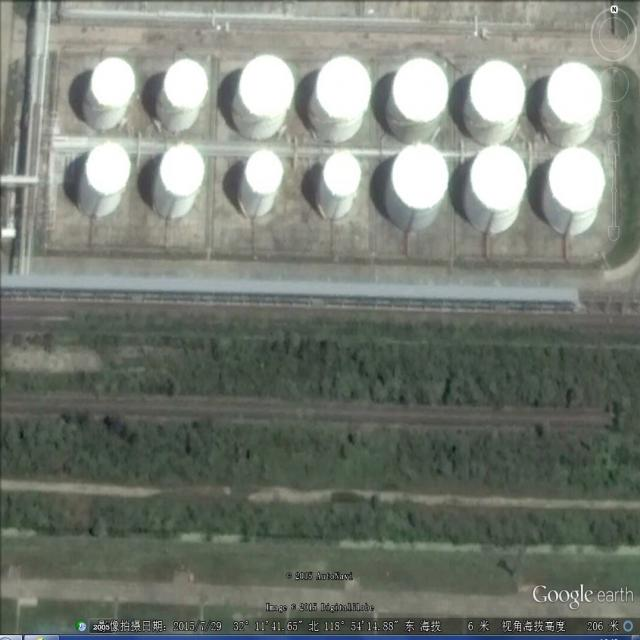oiltank: (458, 143, 530, 241), (229, 52, 299, 147), (538, 148, 609, 241), (383, 140, 452, 235), (306, 51, 374, 147), (382, 59, 451, 147), (460, 57, 526, 149), (538, 61, 607, 149), (146, 143, 210, 224), (79, 56, 139, 137), (152, 55, 212, 135), (76, 141, 135, 222), (235, 147, 289, 220), (314, 151, 366, 224)
